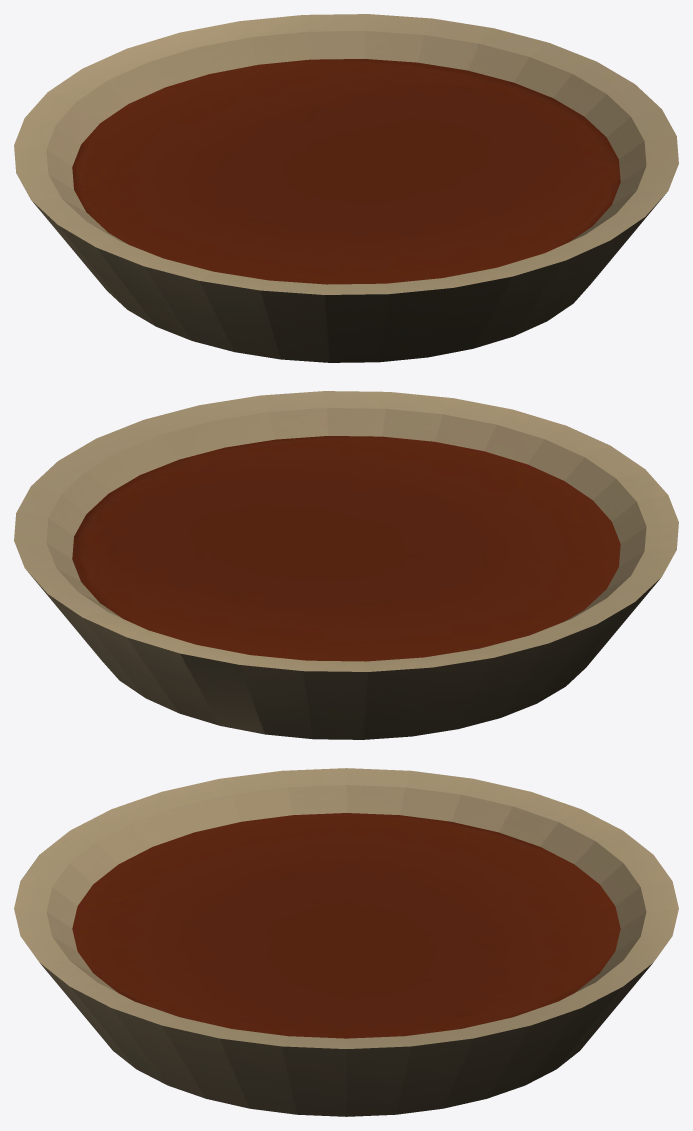
Rendered from pumpkinpie2.dae.
3 views of the same model, one above another, from view 1: azimuth 30°, elevation 25°; view 2: azimuth 150°, elevation 25°; view 3: azimuth 270°, elevation 25° (orthographic).
Parts seen in each view (by area): view 1: Cylinder; view 2: Cylinder; view 3: Cylinder.
Boxes of the visible parts, left/top/right/bottom form: Cylinder: left=14, top=14, right=678, bottom=362; Cylinder: left=14, top=391, right=678, bottom=739; Cylinder: left=14, top=768, right=678, bottom=1116.
Size of the model in its own units: 2.8 by 2.8 by 0.4719.
1 material, 1 textured.
